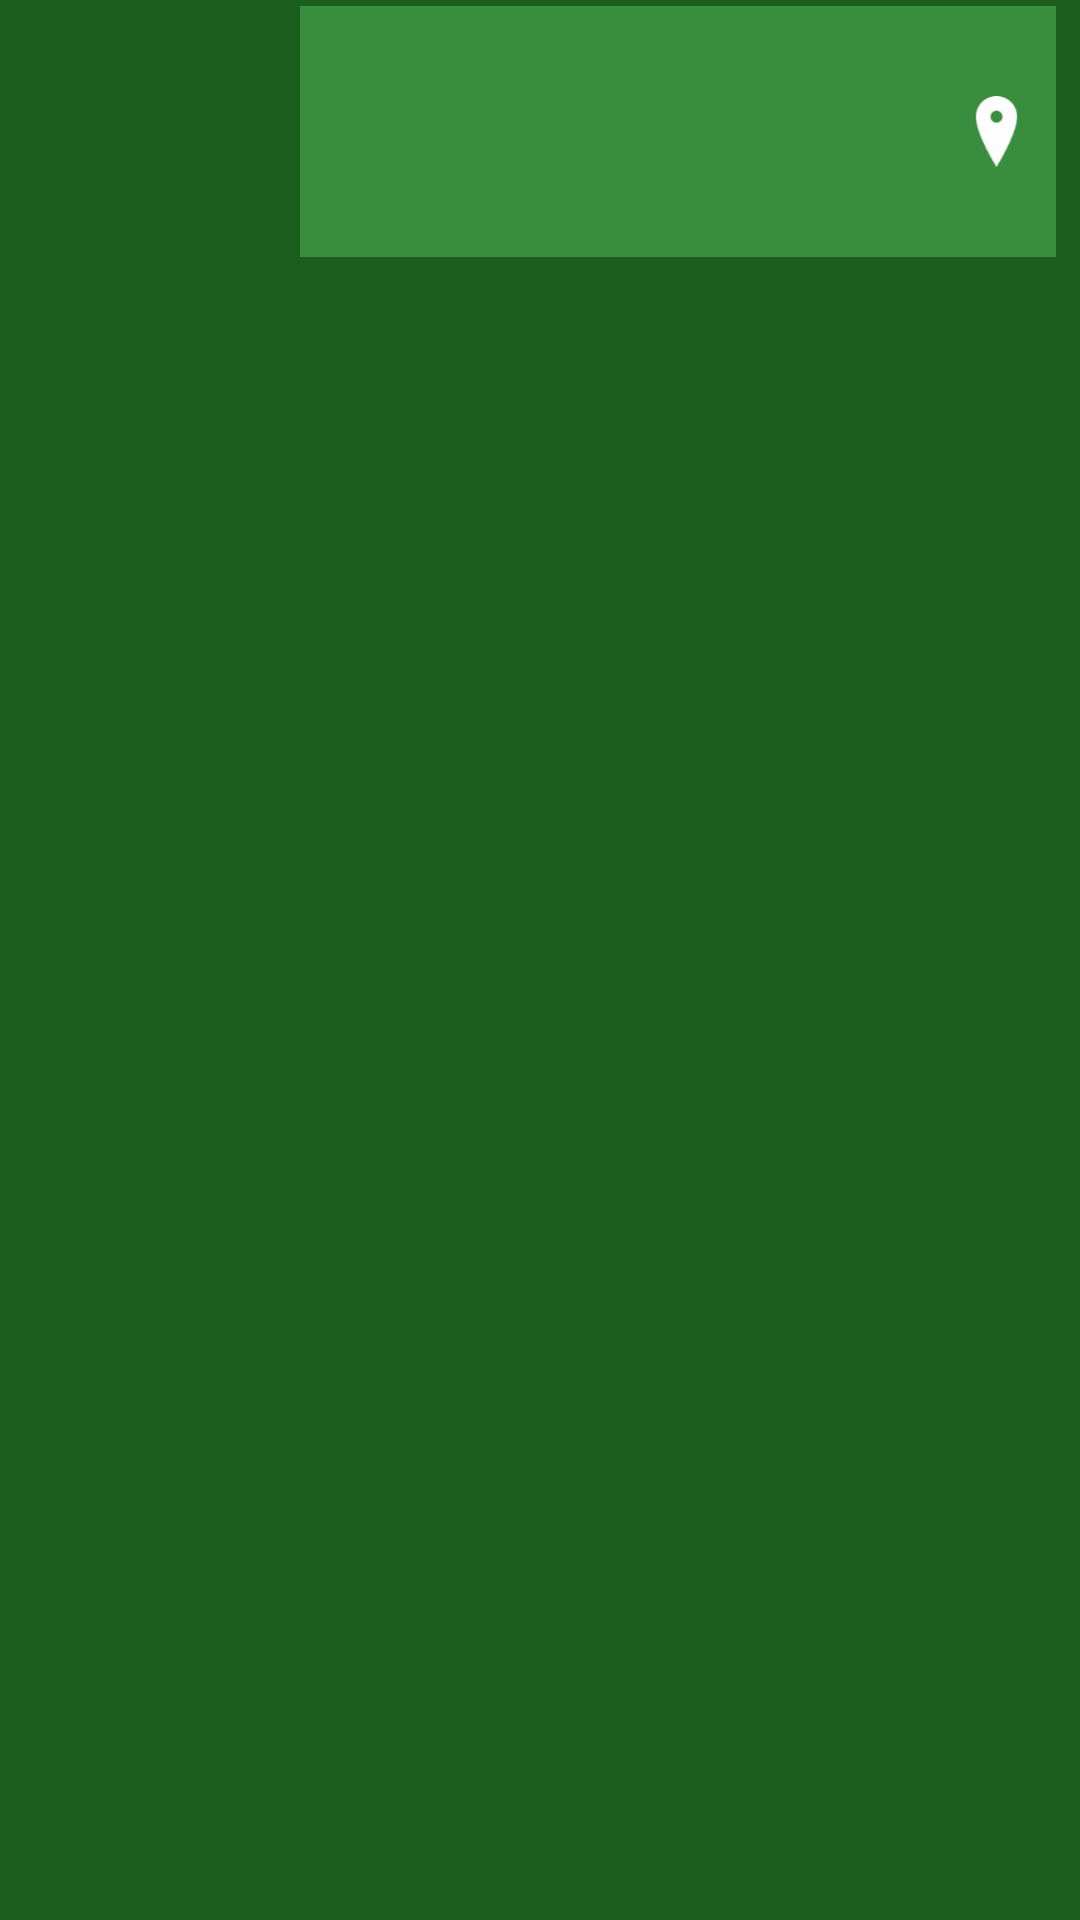

Icon bounding boxes for this 1080×1920 phone screenshot, format (x1, y1, x2, y2):
map marker: (975, 96, 1018, 167)
